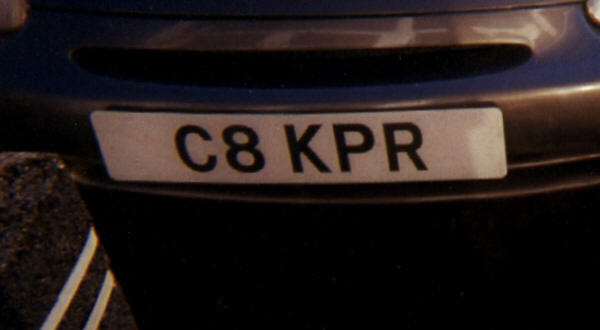license_plate: (87, 105, 507, 185)
